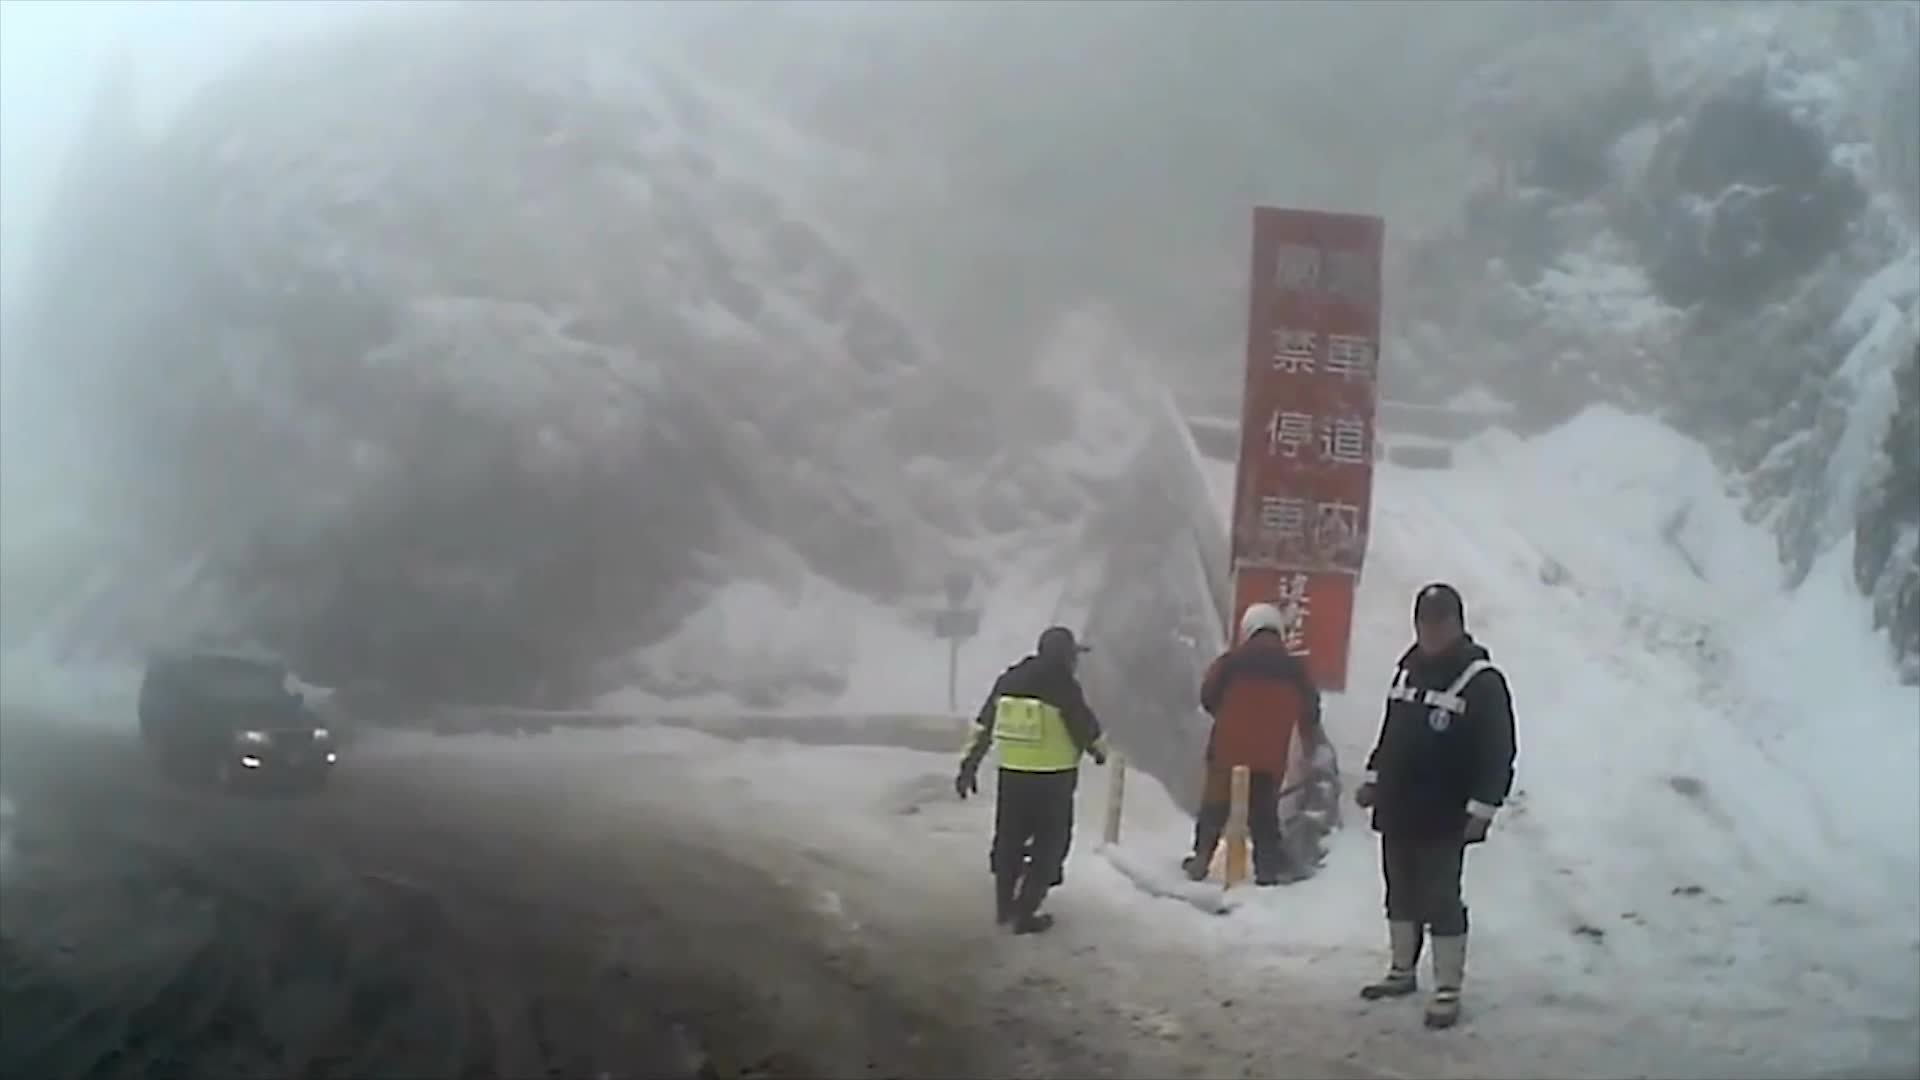pedestrian: (1364, 583, 1528, 1025), (958, 625, 1110, 931), (1184, 602, 1321, 885)
vehicle: (134, 652, 337, 799)
